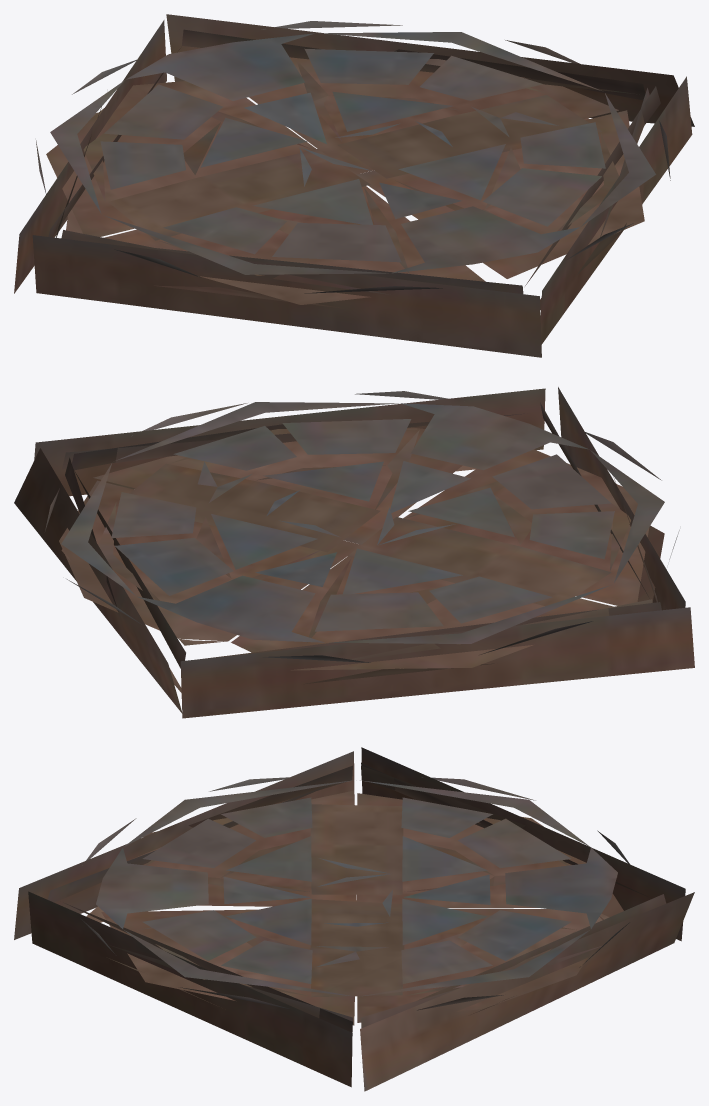
Rendered from bueiro.glb.
The picture shows the model from 3 angles, top to bottom: view 1: azimuth 30°, elevation 25°; view 2: azimuth 150°, elevation 25°; view 3: azimuth 270°, elevation 25°; orthographic projection. The views are drawn at different scales.
Visible parts, largest first — view 1: Malha; view 2: Malha; view 3: Malha.
Boxes of the visible parts, x1,y1,x2,y2 form: Malha: (14, 14, 694, 357); Malha: (14, 387, 694, 718); Malha: (14, 747, 694, 1091).
Bounding box in the file's own units: 0.7897 × 0.0678 × 0.7725.
Materials: 1 (1 with a texture image).
